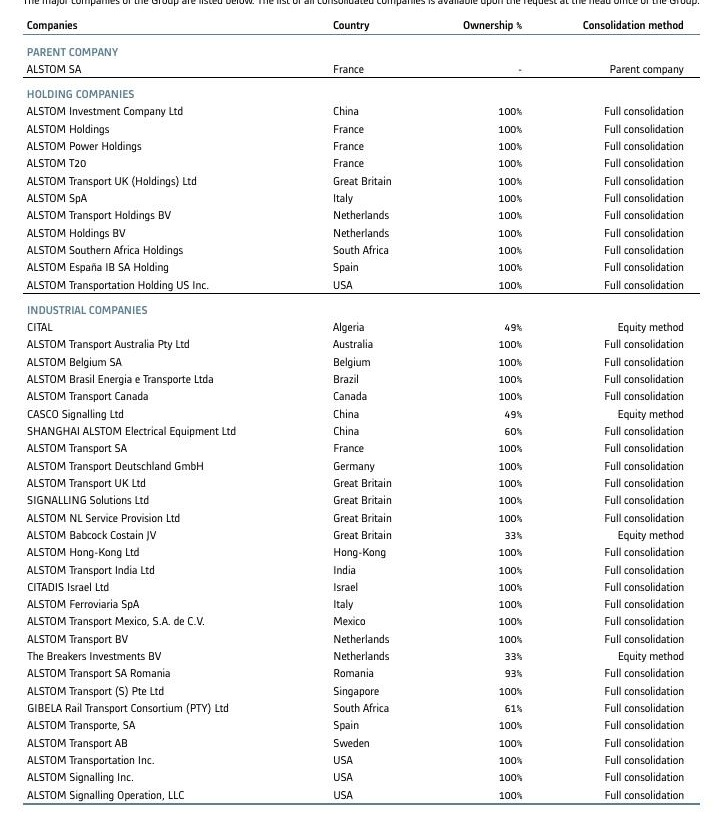table: (0, 0, 719, 836)
